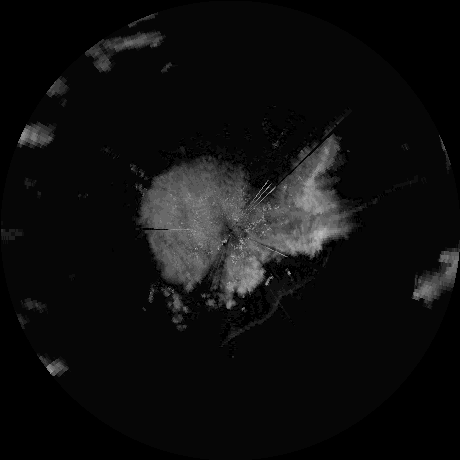frontgust: (225, 282, 302, 340)
